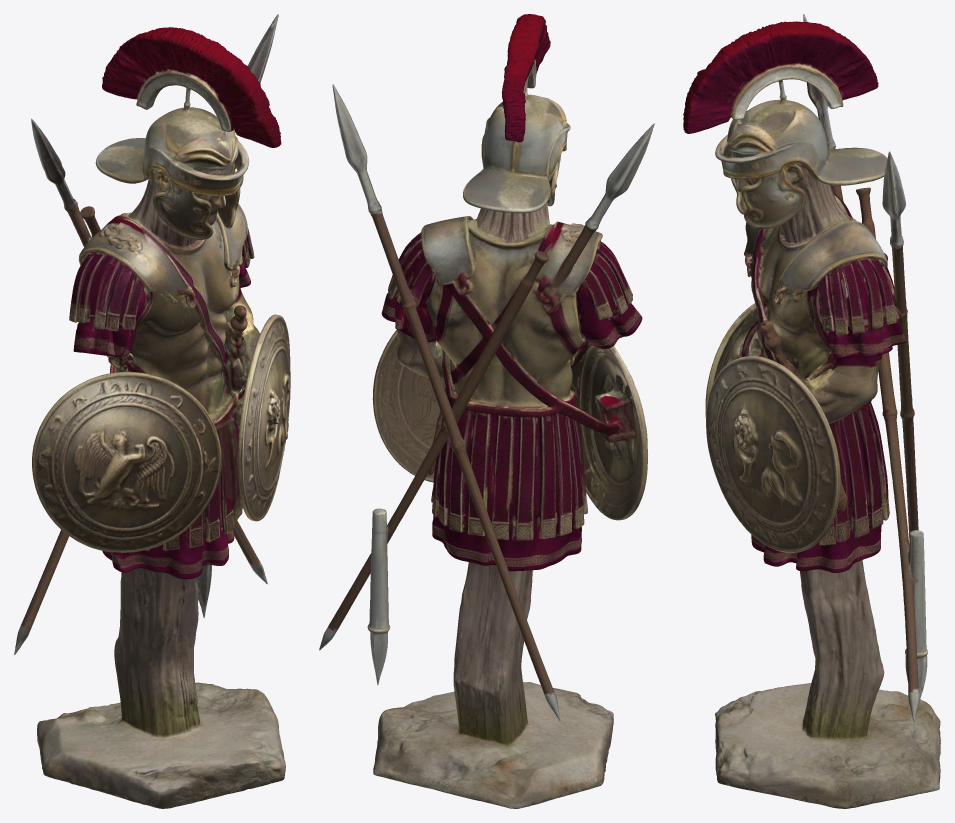
The model's file is legionary.glb.
3 views of the same model, side by side, from view 1: azimuth 30°, elevation 25°; view 2: azimuth 150°, elevation 25°; view 3: azimuth 270°, elevation 25° (orthographic). The views are drawn at different scales.
Size of the model in its own units: 25756 by 62142 by 20006.
1 material, 1 textured.
